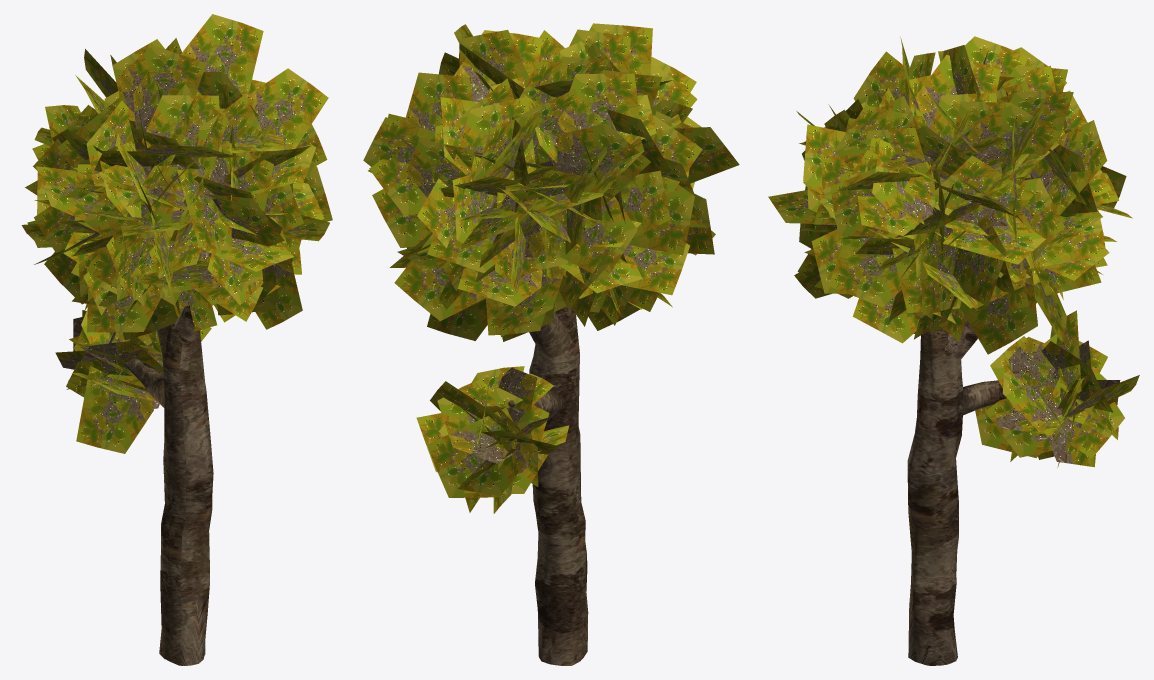
Rendered from SM_Yakushima_tree_003_f1a135.glb.
The picture shows the model from 3 angles, left to right: view 1: azimuth 30°, elevation 25°; view 2: azimuth 150°, elevation 25°; view 3: azimuth 270°, elevation 25°; orthographic projection. The views are drawn at different scales.
Bounding box in the file's own units: 4.31 × 8.95 × 4.82.
2 materials, 2 textured.
